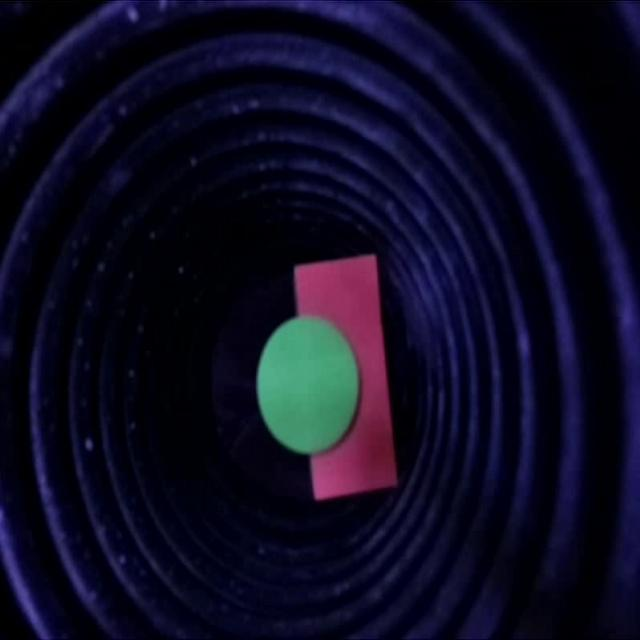obstacles: (263, 255, 401, 502)
